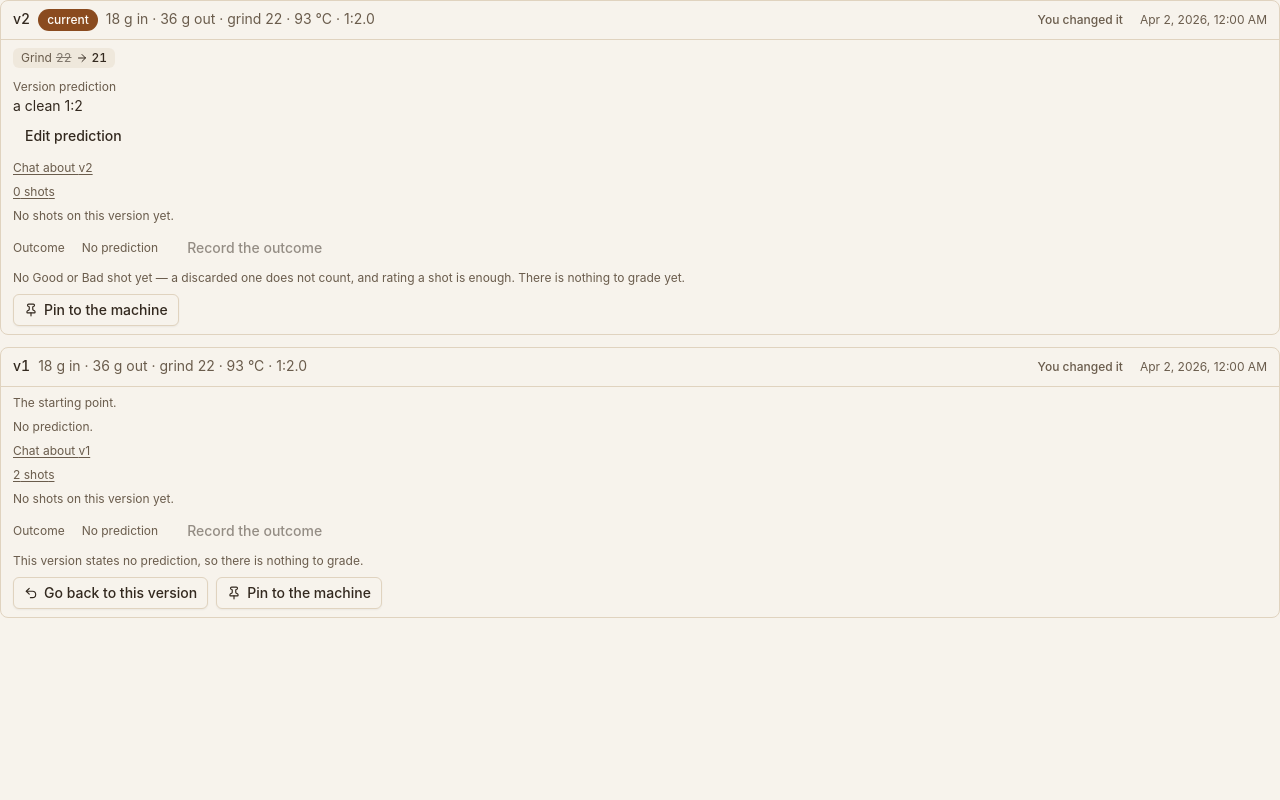
VersionTimeline › keeps a stored 'Nothing' when an existing prediction is edited
Click the button "Edit prediction".
click(73, 136)  # box [13,120,134,152]
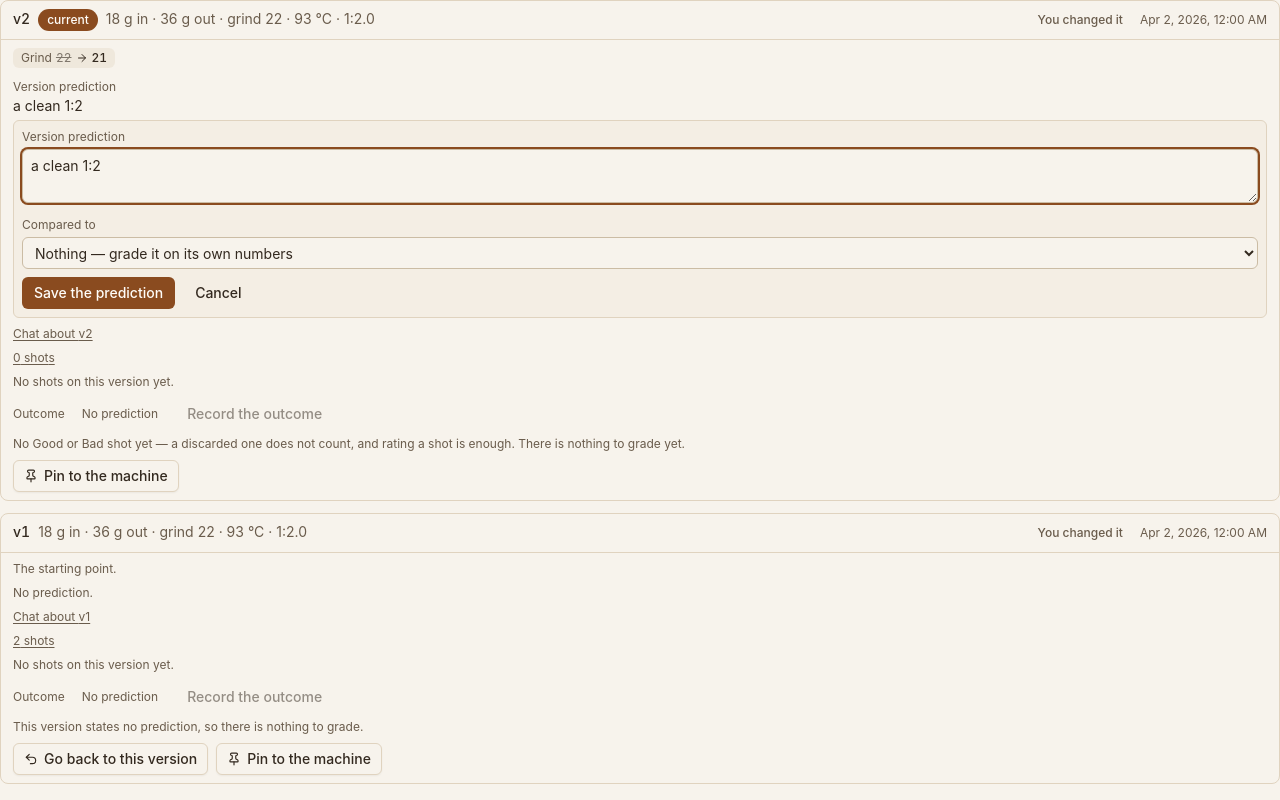
expect the dropdown labelled "Compared to" shows "Nothing — grade it on its own numbers": met, box [22,237,1258,269]
